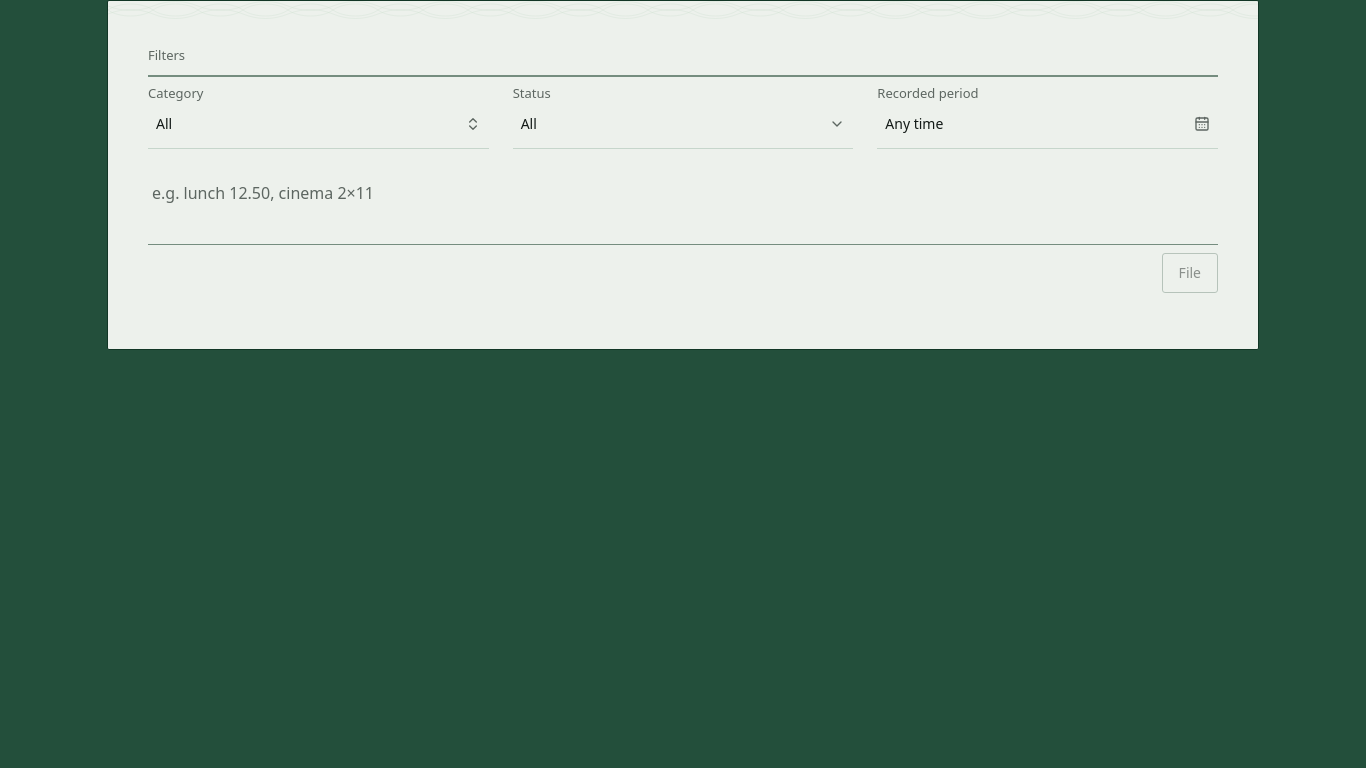
the expenses page › leaves the newer answer standing when a read the filter has moved on from answers last
Click the button named "category" at point(164, 124), box [148,104,489,144]
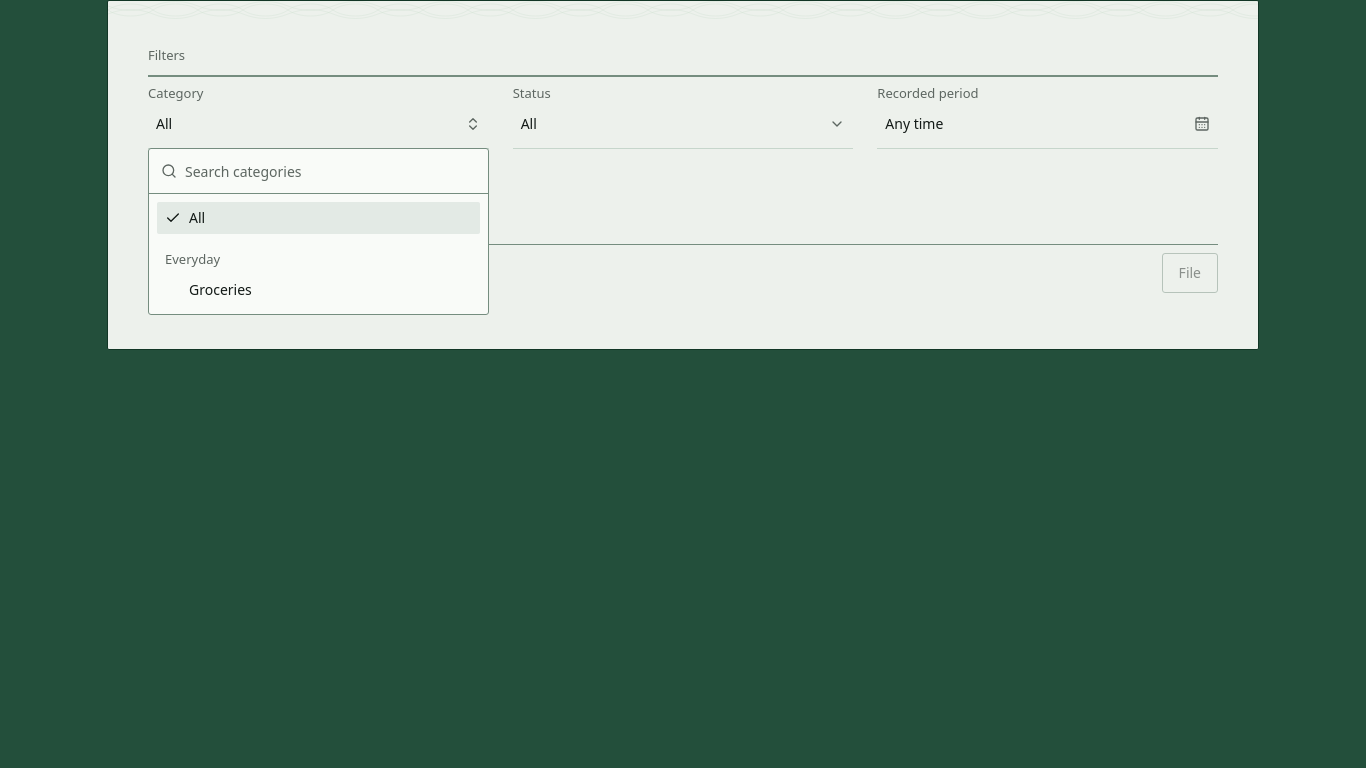
Click the option "Groceries" at point(220, 289), box [189,280,252,298]
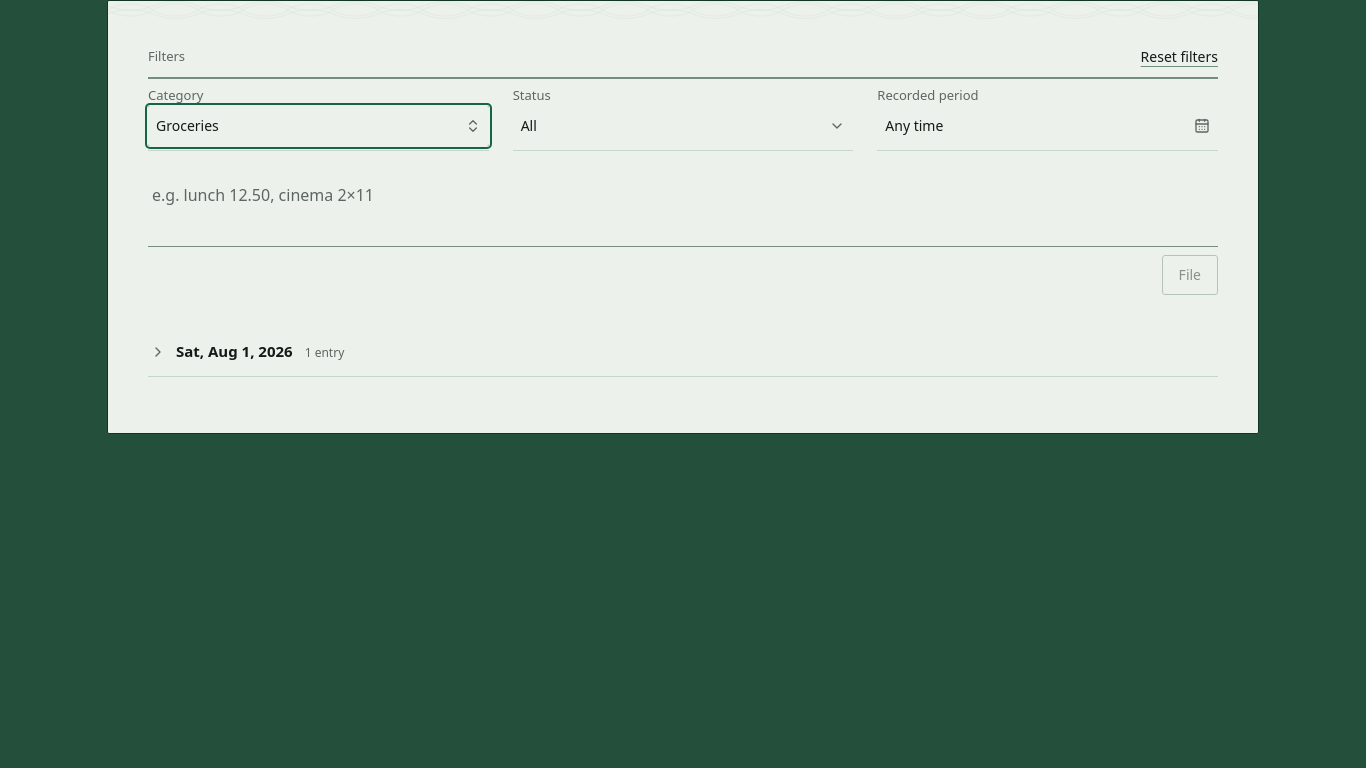
Click the button "Sat, Aug 1, 2026 1 entry" at point(234, 351), box [148,327,1218,376]
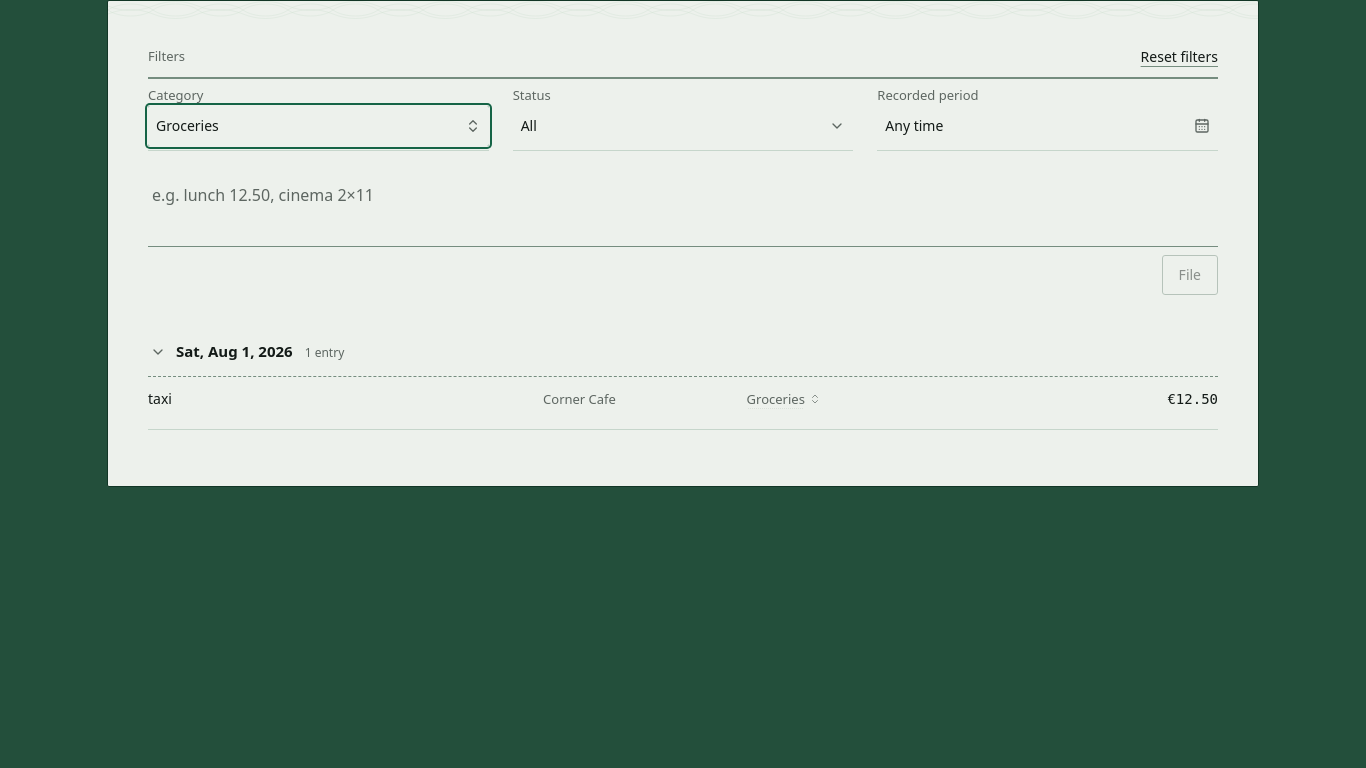
expect the text "taxi" is shown: met, box [148,389,172,408]
